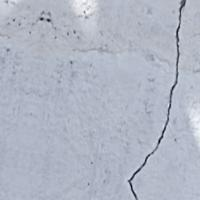crack: (126, 2, 199, 199)
